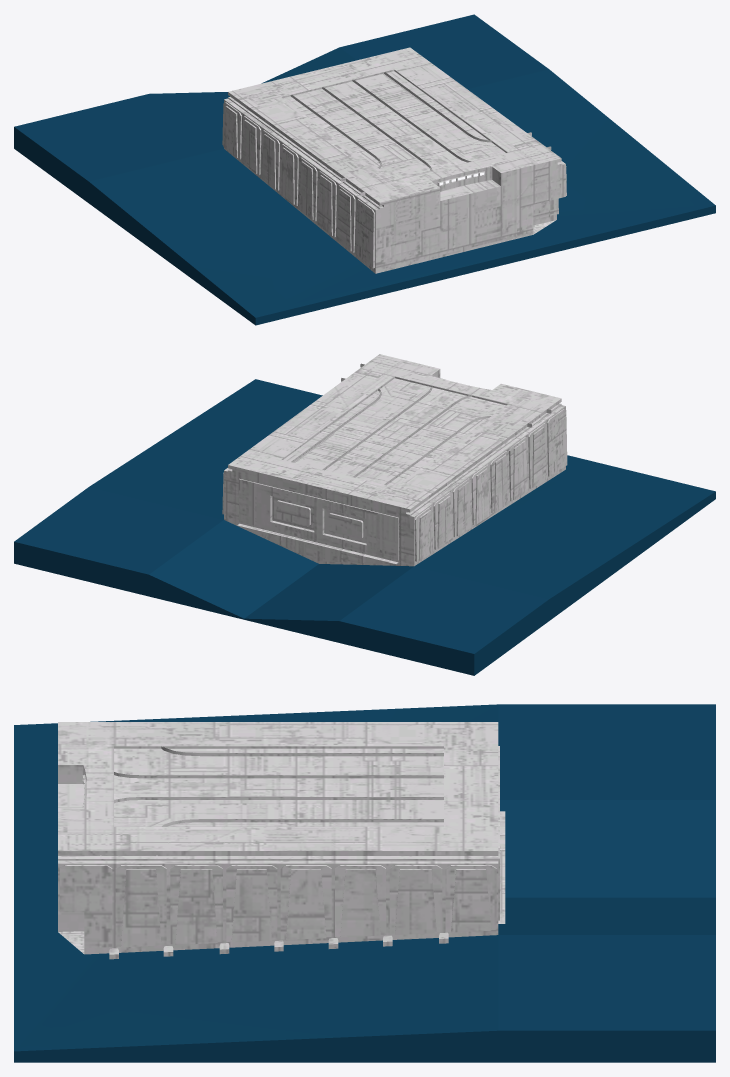
The model's file is thm_spc_star_destroyer_s01_r54_hangarbay_mesh_r54.fbx.
The picture shows the model from 3 angles, top to bottom: view 1: azimuth 30°, elevation 25°; view 2: azimuth 150°, elevation 25°; view 3: azimuth 270°, elevation 25°; orthographic projection. The views are drawn at different scales.
Visible parts, largest first — view 1: mesh_node; view 2: mesh_node; view 3: mesh_node.
Part boxes in pixels (<box>): mesh_node: <box>14,14,715,325</box>; mesh_node: <box>14,354,715,675</box>; mesh_node: <box>14,704,715,1062</box>.
Bounding box in the file's own units: 220 × 35.5 × 200.
Materials: 2 (2 with a texture image).
